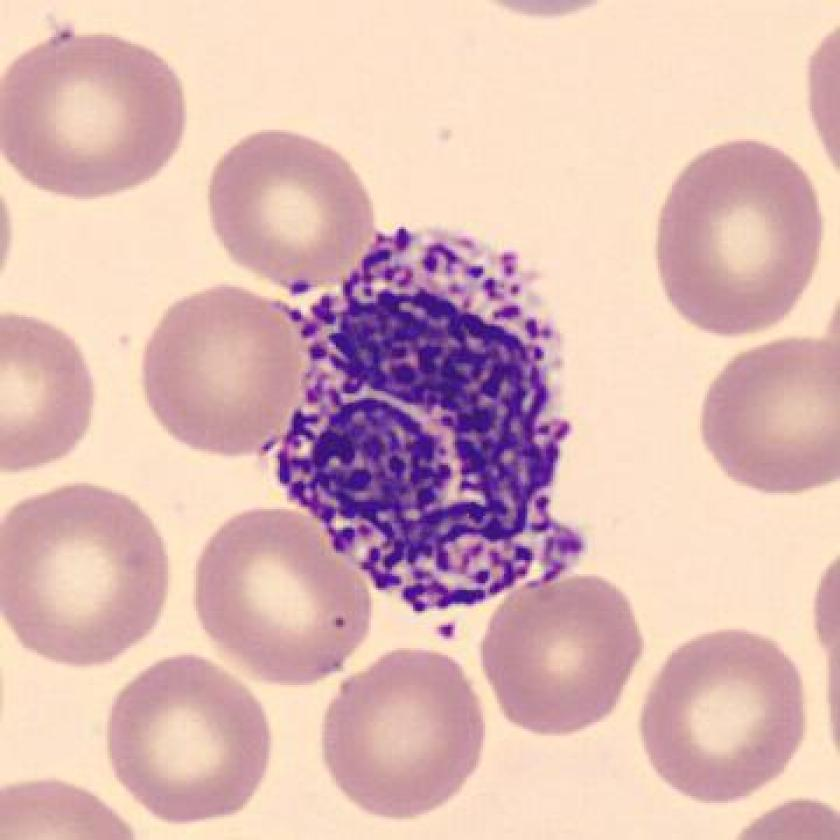basophil: (283, 221, 594, 619)
